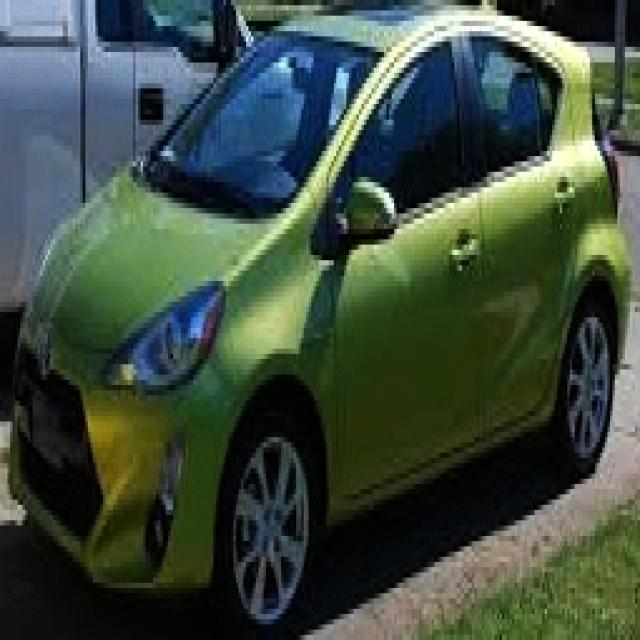green: (9, 0, 628, 640)
